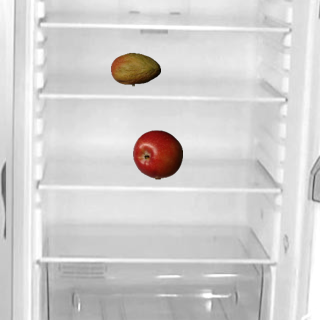Apple Braeburn: (132, 129, 182, 179)
Papaya: (110, 44, 160, 94)
